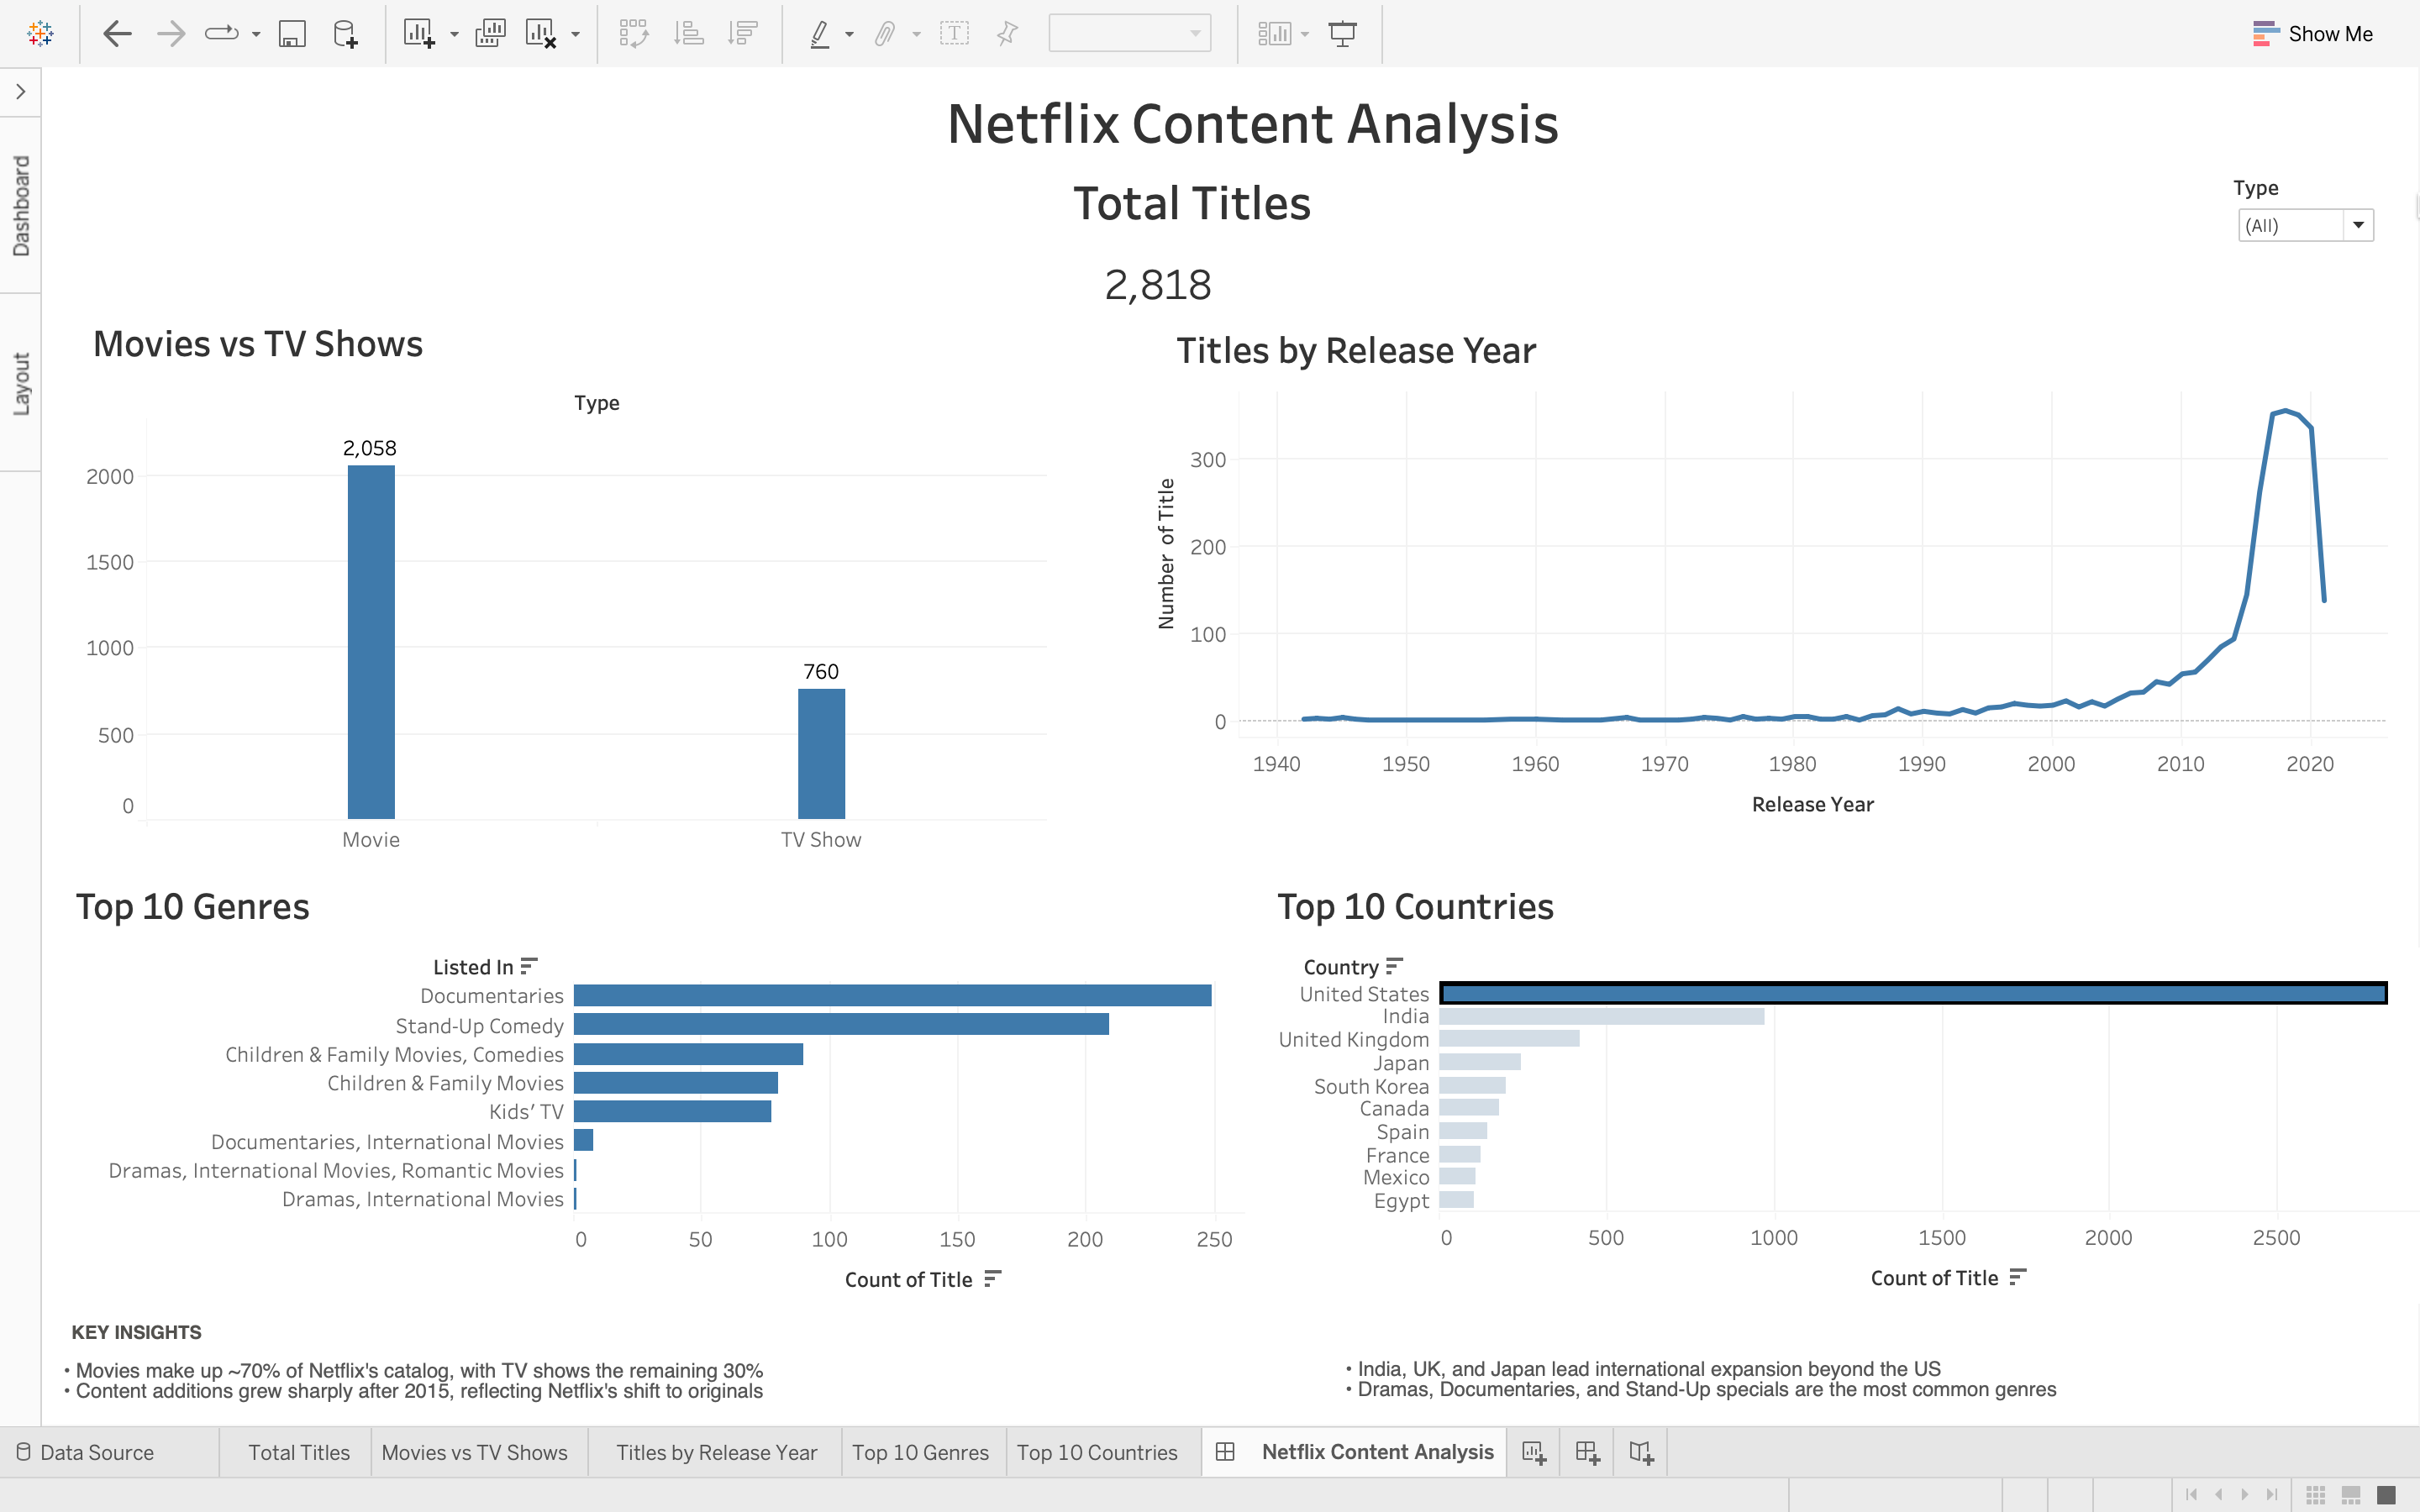

The dashboard page shown, as its layout file describes it:
{"tool":"tableau","page":{"name":"    Netflix Content Analysis","canvas":[1000,1000],"units":"permille","ordinal":0},"visuals":[{"type":"title","box":[6.5,11.7,987,71.6]},{"type":"worksheet","title":"    Total Titles","mark":"Automatic","box":[20.3,70.5,899.9,115.1]},{"type":"filter","title":"Movies vs TV Shows","param":"[federated.1kik33m0lo81gk1ee69ta1mfmnvm].[none:type:nk]","box":[921.9,78,61.8,69.3]},{"type":"worksheet","title":"Movies vs TV Shows","mark":"Automatic","rows":["title"],"cols":["type"],"box":[18.7,179.5,404.4,446.8]},{"type":"worksheet","title":"    Titles by Release Year","mark":"Automatic","rows":["title"],"cols":["release_year"],"box":[462.2,184.4,525.6,377.5]},{"type":"worksheet","title":"Top 10 Genres","mark":"Automatic","rows":["listed_in"],"cols":["title"],"box":[11.4,594.1,494.7,318.1]},{"type":"text","box":[10.6,919.6,106.6,28.5]},{"type":"text","box":[546.8,948,397.9,38.4]},{"type":"text","box":[4.9,950.5,426.4,37.1]}]}

Visuals, with their boxes on the dashboard's canvas, which has no fixed pixel size, in thousandths of its width and height (x1, y1, x2, y2). These are canvas units, not pixel positions in the 2420x1512 screenshot, which may show the page scaled, cropped or inside an application window:
title: detection(6, 12, 994, 83)
"    Total Titles" worksheet: detection(20, 70, 920, 186)
"Movies vs TV Shows" filter: detection(922, 78, 984, 147)
"Movies vs TV Shows" worksheet: detection(19, 180, 423, 626)
"    Titles by Release Year" worksheet: detection(462, 184, 988, 562)
"Top 10 Genres" worksheet: detection(11, 594, 506, 912)
text: detection(11, 920, 117, 948)
text: detection(547, 948, 945, 986)
text: detection(5, 950, 431, 988)
